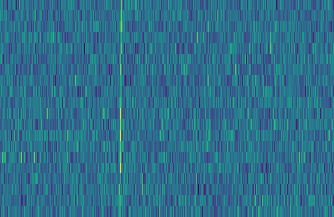signal: (114, 0, 124, 217)
